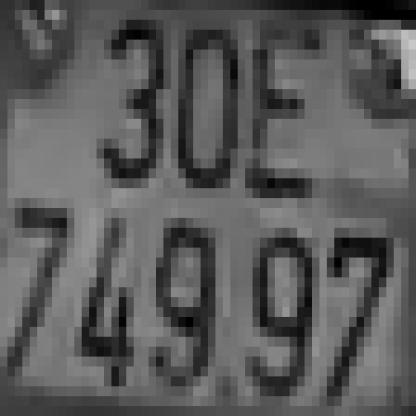0: (178, 30, 238, 188)
3: (104, 20, 163, 188)
4: (82, 218, 134, 376)
7: (320, 228, 386, 386), (7, 208, 67, 366)
9: (238, 218, 312, 386), (149, 218, 208, 376)
E: (238, 30, 312, 208)
